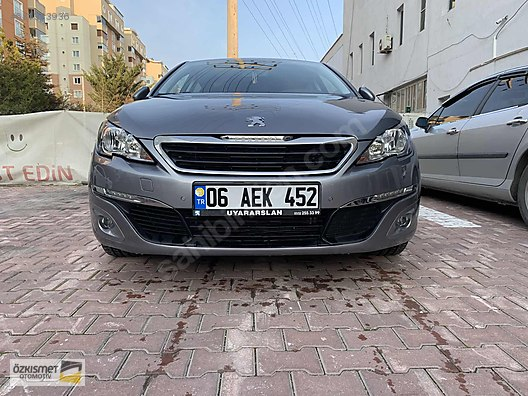peugeot: (84, 49, 422, 268)
